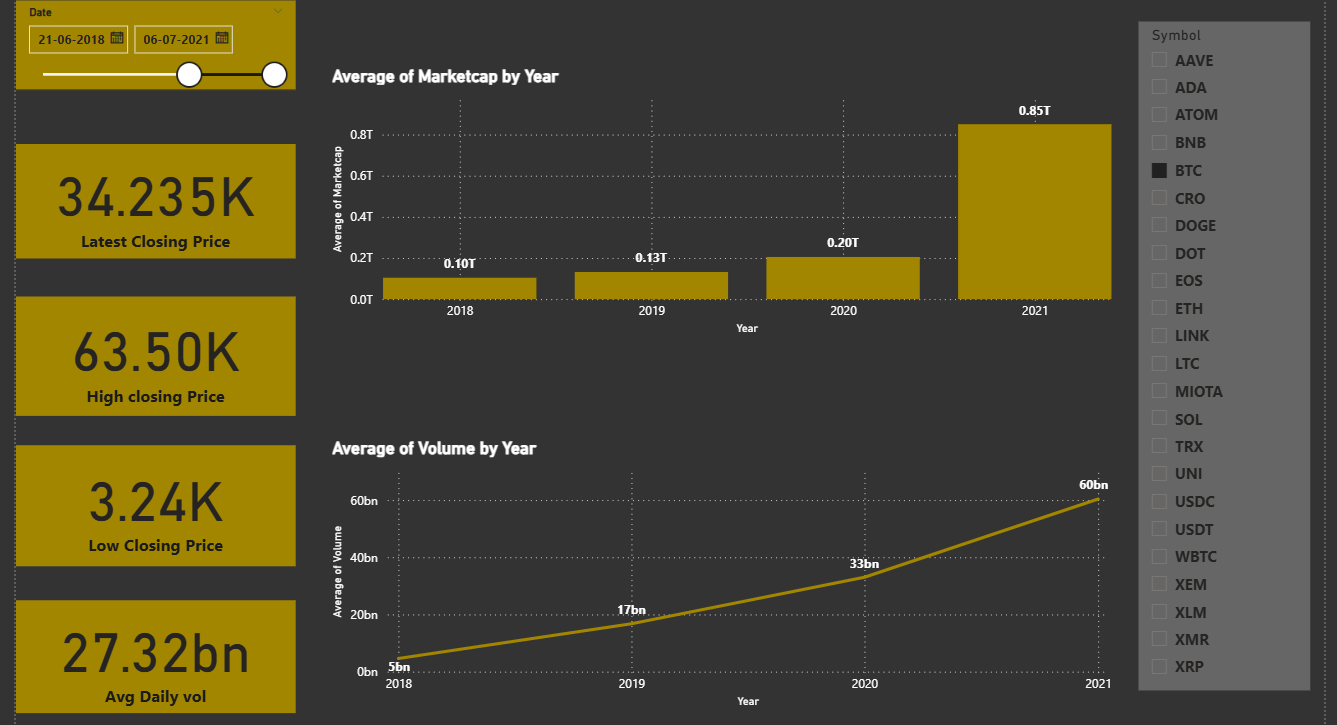

Layout of this report page (visuals, bound fields, positions):
{"tool":"powerbi","page":{"name":"Overall Analysis","canvas":[1280,720],"ordinal":1},"visuals":[{"type":"slicer","fields":{"Values":["Cryptocurrency.Symbol"]},"box":[1097.8,32.4,168.4,654.2],"z":0},{"type":"slicer","fields":{"Values":["Cryptocurrency.Date"]},"box":[0,11.3,273.6,87.4],"z":1000},{"type":"card","fields":{"Values":["Cryptocurrency.Latest Closing Price"]},"box":[0,152.2,273.6,111.7],"z":2000},{"type":"card","fields":{"Values":["Cryptocurrency.High closing Price"]},"box":[0,301.2,273.6,116.6],"z":3000},{"type":"card","fields":{"Values":["Cryptocurrency.Low Closing Price"]},"box":[0,446.9,273.6,118.2],"z":4000},{"type":"card","fields":{"Values":["Cryptocurrency.Avg Daily vol"]},"box":[0,597.5,273.6,110.1],"z":5000},{"type":"lineChart","fields":{"Y":["Avg(Cryptocurrency.Volume)"],"Category":["Cryptocurrency.Date.Variation.Date Hierarchy.Year","Cryptocurrency.Date.Variation.Date Hierarchy.Quarter","Cryptocurrency.Date.Variation.Date Hierarchy.Month","Cryptocurrency.Date.Variation.Date Hierarchy.Day"]},"box":[304.4,438.8,772.4,268.8],"z":6000},{"type":"columnChart","fields":{"Category":["Cryptocurrency.Date.Variation.Date Hierarchy.Year","Cryptocurrency.Date.Variation.Date Hierarchy.Quarter","Cryptocurrency.Date.Variation.Date Hierarchy.Month","Cryptocurrency.Date.Variation.Date Hierarchy.Day"],"Y":["Avg(Cryptocurrency.Marketcap)"]},"box":[304.4,74.5,772.4,268.8],"z":7000}]}

Visuals, with their boxes on the page's 1280x720 design canvas (x1, y1, x2, y2). These are canvas units, not pixel positions in the 1337x725 screenshot, which may show the page scaled, cropped or inside an application window:
slicer - Cryptocurrency.Symbol: 1098 32 1266 687
slicer - Cryptocurrency.Date: 0 11 274 99
card - Cryptocurrency.Latest Closing Price: 0 152 274 264
card - Cryptocurrency.High closing Price: 0 301 274 418
card - Cryptocurrency.Low Closing Price: 0 447 274 565
card - Cryptocurrency.Avg Daily vol: 0 598 274 708
lineChart - Avg(Cryptocurrency.Volume) x Cryptocurrency.Date.Variation.Date Hierarchy.Year: 304 439 1077 708
columnChart - Cryptocurrency.Date.Variation.Date Hierarchy.Year x Cryptocurrency.Date.Variation.Date Hierarchy.Quarter: 304 74 1077 343
